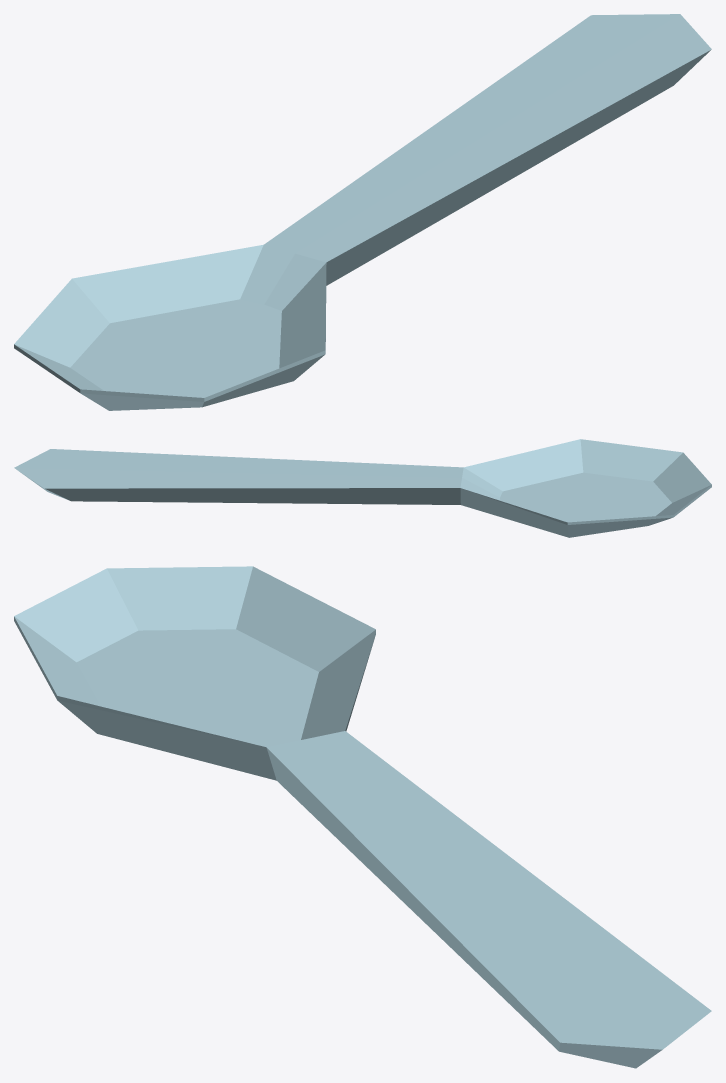
Rendered from Spoon_1.fbx.
3 views of the same model, one above another, from view 1: azimuth 30°, elevation 25°; view 2: azimuth 150°, elevation 25°; view 3: azimuth 270°, elevation 25° (orthographic). The views are drawn at different scales.
Parts seen in each view (by area): view 1: Spoon_1; view 2: Spoon_1; view 3: Spoon_1.
Boxes of the visible parts, x1,y1,x2,y2 form: Spoon_1: (14, 14, 711, 410); Spoon_1: (14, 439, 711, 537); Spoon_1: (14, 566, 711, 1068).
Size of the model in its own units: 40.83 by 25.16 by 2.4.
